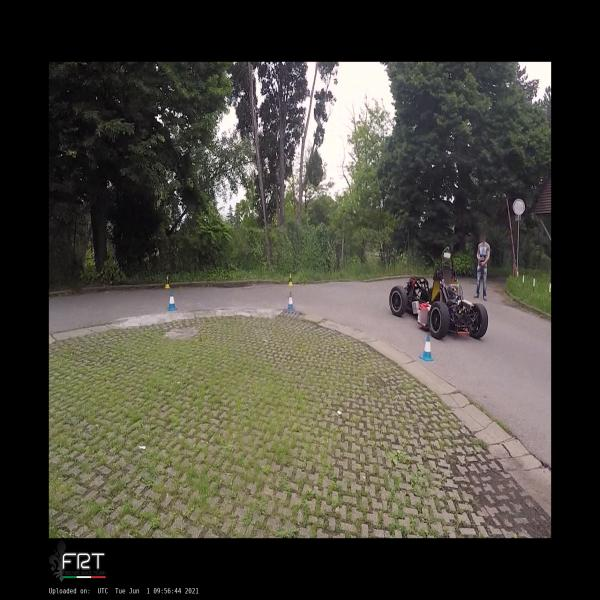blue_cone: (419, 334, 434, 361), (167, 291, 178, 310), (287, 291, 295, 311)
yellow_cone: (164, 275, 171, 288), (288, 273, 294, 286)
